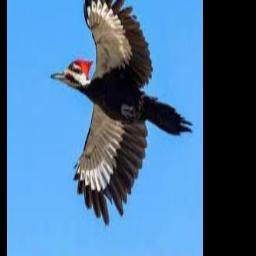Woodpecker: (50, 0, 193, 226)
